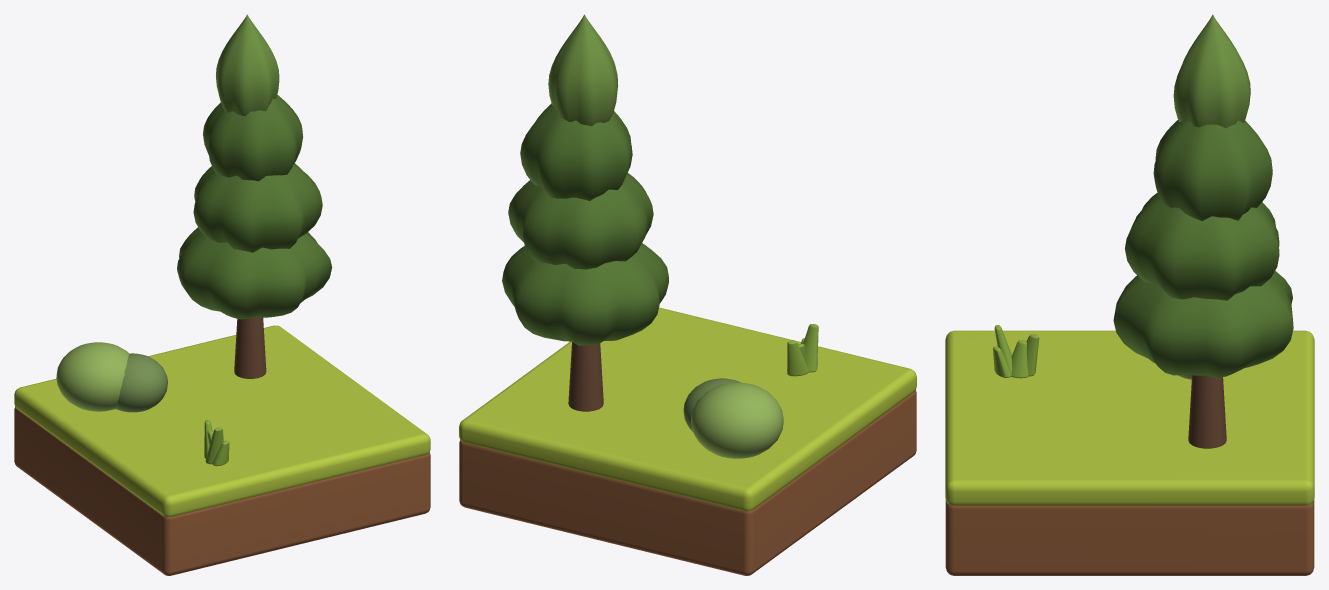
Rendered from tile_grove_mature.glb.
The picture shows the model from 3 angles, left to right: view 1: azimuth 30°, elevation 25°; view 2: azimuth 150°, elevation 25°; view 3: azimuth 270°, elevation 25°; orthographic projection. The views are drawn at different scales.
Parts seen in each view (by area): view 1: tile_grove_mature_cap, tile_grove_mature_body, gm_tier0, gm_tier1, gm_tier2, gm_tier3, tile_grove_mature_b_l3, tile_grove_mature_b_l1, gm_trunk; view 2: tile_grove_mature_cap, tile_grove_mature_body, gm_tier0, gm_tier1, gm_tier2, tile_grove_mature_b_l3, gm_tier3, gm_trunk, tile_grove_mature_b_l1, tile_grove_mature_t_b1, tile_grove_mature_t_b2; view 3: tile_grove_mature_cap, tile_grove_mature_body, gm_tier0, gm_tier1, gm_tier2, gm_tier3, gm_trunk, tile_grove_mature_t_b3.
Part boxes in pixels (x1,y1,x2,y2): tile_grove_mature_cap: (14, 325, 430, 516); tile_grove_mature_body: (14, 407, 430, 575); gm_tier0: (177, 227, 332, 319); gm_tier1: (193, 163, 322, 252); gm_tier2: (203, 95, 302, 181); gm_tier3: (216, 14, 279, 116); tile_grove_mature_b_l3: (56, 342, 129, 411); tile_grove_mature_b_l1: (115, 353, 167, 412); gm_trunk: (234, 317, 266, 378); tile_grove_mature_cap: (459, 307, 916, 511); tile_grove_mature_body: (459, 390, 916, 575); gm_tier0: (502, 243, 668, 345); gm_tier1: (508, 173, 653, 269); gm_tier2: (520, 103, 632, 200); tile_grove_mature_b_l3: (691, 382, 783, 458); gm_tier3: (548, 14, 618, 126); gm_trunk: (568, 342, 603, 411); tile_grove_mature_b_l1: (683, 378, 740, 431); tile_grove_mature_t_b1: (803, 324, 818, 372); tile_grove_mature_t_b2: (787, 340, 808, 376); tile_grove_mature_cap: (945, 330, 1314, 505); tile_grove_mature_body: (945, 500, 1314, 575); gm_tier0: (1113, 271, 1293, 378); gm_tier1: (1125, 192, 1279, 300); gm_tier2: (1153, 120, 1272, 220); gm_tier3: (1173, 14, 1250, 128); gm_trunk: (1188, 375, 1226, 448); tile_grove_mature_t_b3: (1011, 340, 1028, 378).
Size of the model in its own units: 2 by 3.12 by 2.
